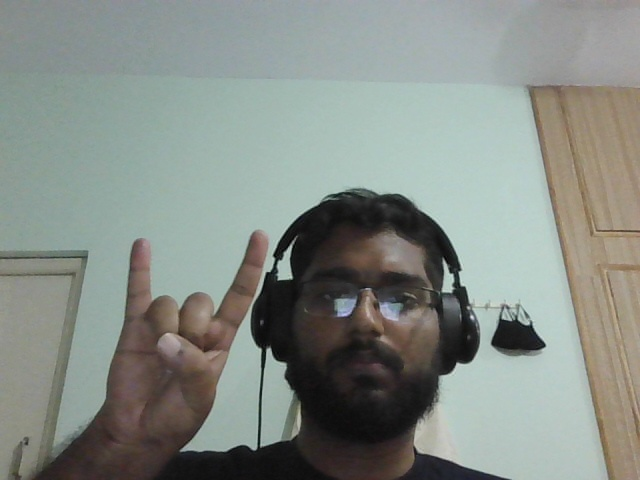I Love You: (94, 216, 283, 456)
